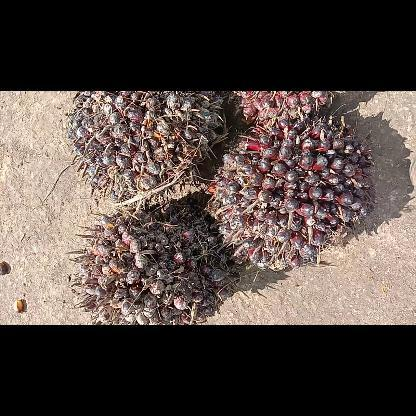Kurang masak: (202, 119, 378, 270), (69, 204, 237, 324), (66, 91, 230, 201), (230, 90, 346, 124)
